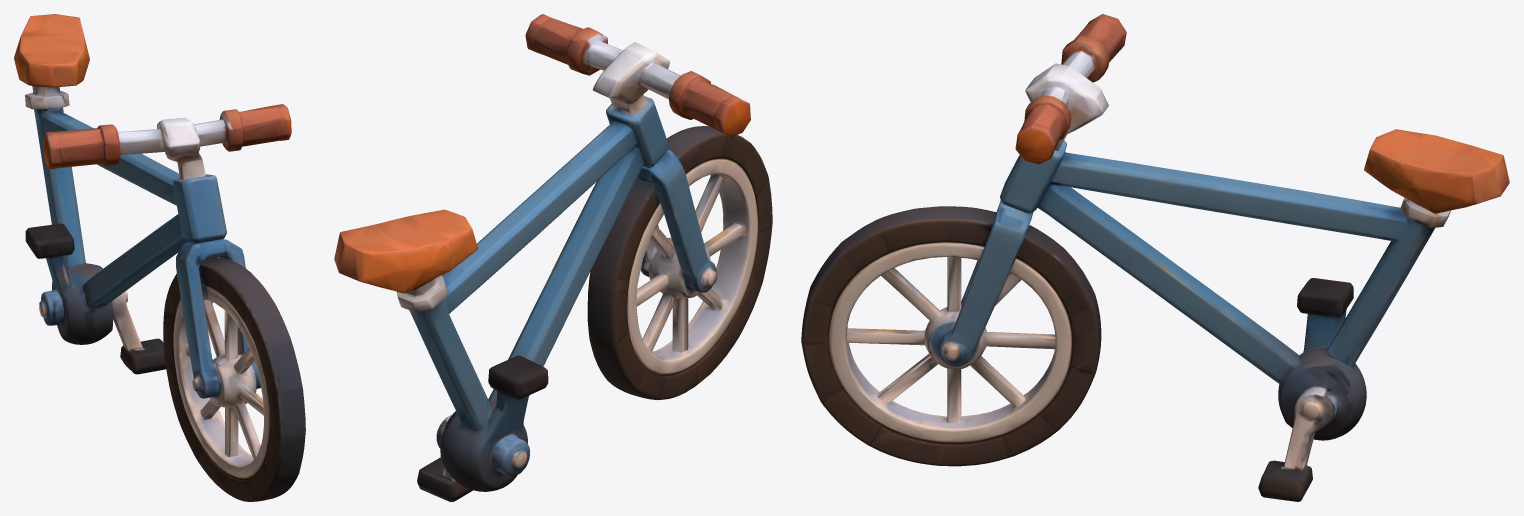
File: bike_handlebar.fbx
The picture shows the model from 3 angles, left to right: view 1: azimuth 30°, elevation 25°; view 2: azimuth 150°, elevation 25°; view 3: azimuth 270°, elevation 25°; orthographic projection. The views are drawn at different scales.
Parts seen in each view (by area): view 1: bike_handlebar; view 2: bike_handlebar; view 3: bike_handlebar.
Boxes of the visible parts, x1,y1,x2,y2 form: bike_handlebar: [14, 14, 305, 501]; bike_handlebar: [334, 14, 772, 501]; bike_handlebar: [801, 14, 1509, 501].
Size of the model in its own units: 33.48 by 49.78 by 83.09.
1 material, 1 textured.
